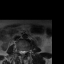CCS_normal: (21, 48, 23, 57)
LFS_normal: (26, 48, 28, 54)
LLS_normal: (23, 49, 25, 56)
RFS_normal: (17, 47, 20, 55)
RLS_normal: (19, 49, 21, 56)
